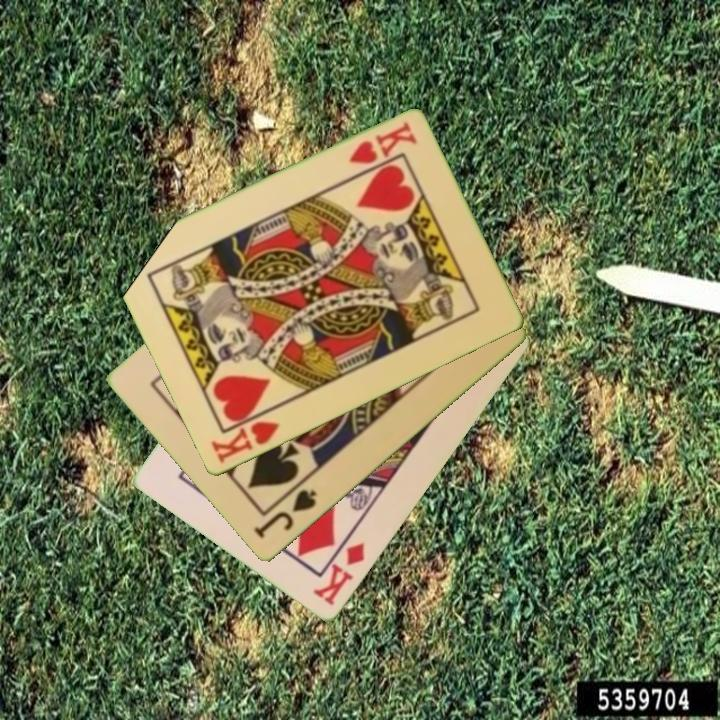Js: (250, 486, 320, 542)
Kd: (309, 539, 368, 609)
Kh: (207, 405, 283, 467), (344, 118, 420, 168)
